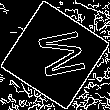M_W: (26, 27, 84, 83)
